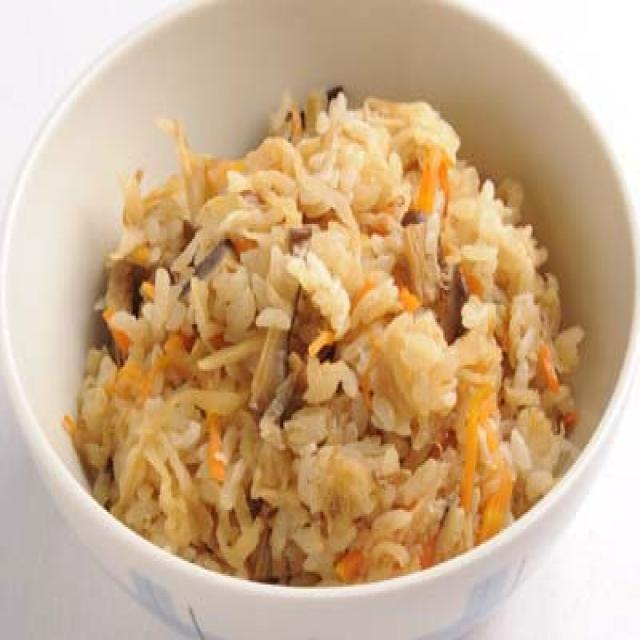Rice: (62, 85, 582, 587)
